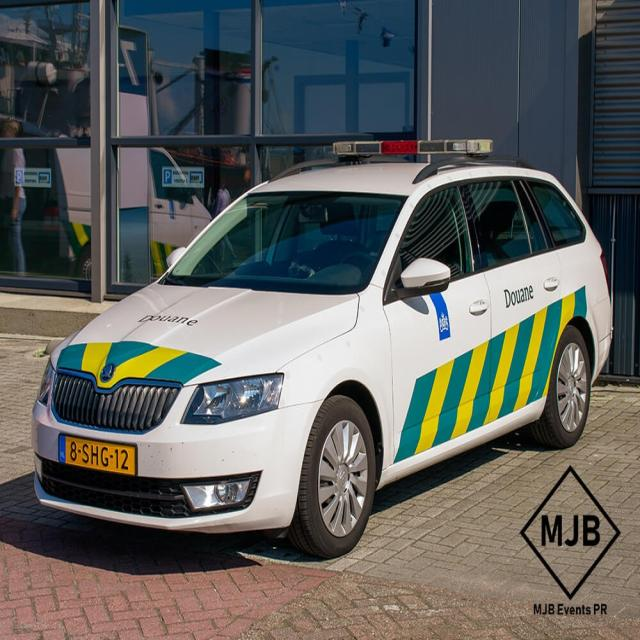number_plate: (56, 432, 138, 474)
